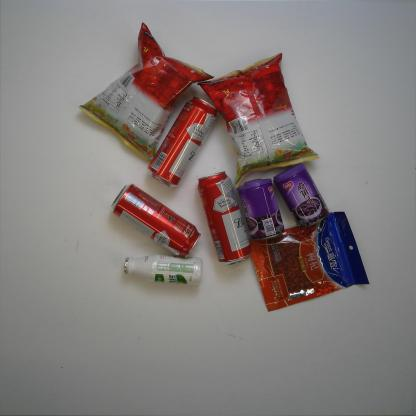Alcohol: (110, 184, 202, 258), (145, 96, 218, 188), (197, 171, 252, 266)
Canned Food: (272, 162, 331, 230), (237, 178, 286, 240)
Dried Fruit: (248, 212, 370, 312)
Milk: (123, 254, 204, 285)
Puffed Food: (78, 24, 214, 162), (199, 54, 321, 188)
